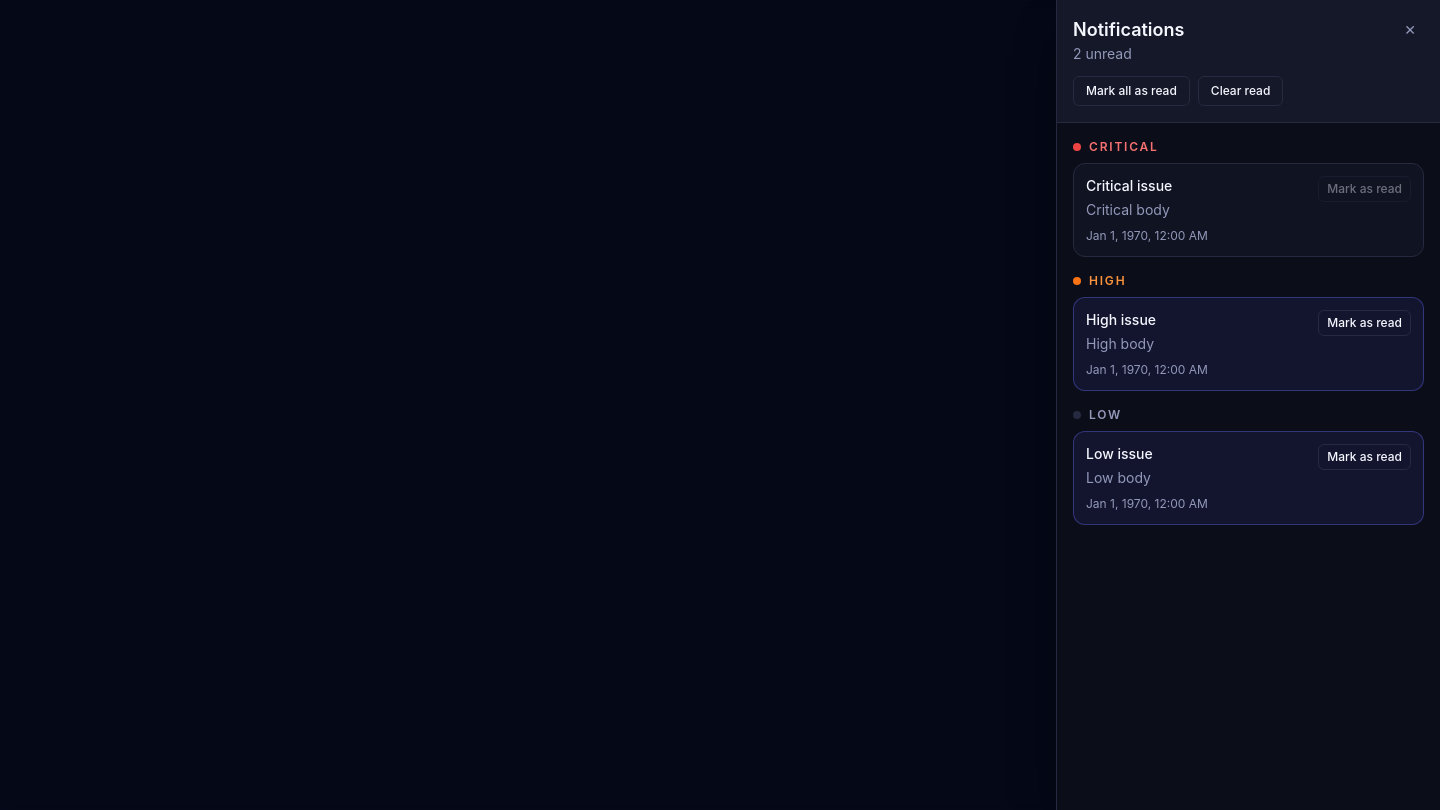
Test: NotificationsDrawer › clears read notifications and disables clear button when none exist
Click the button "Clear read" at (1241, 91), box left=1198, top=76, right=1283, bottom=106
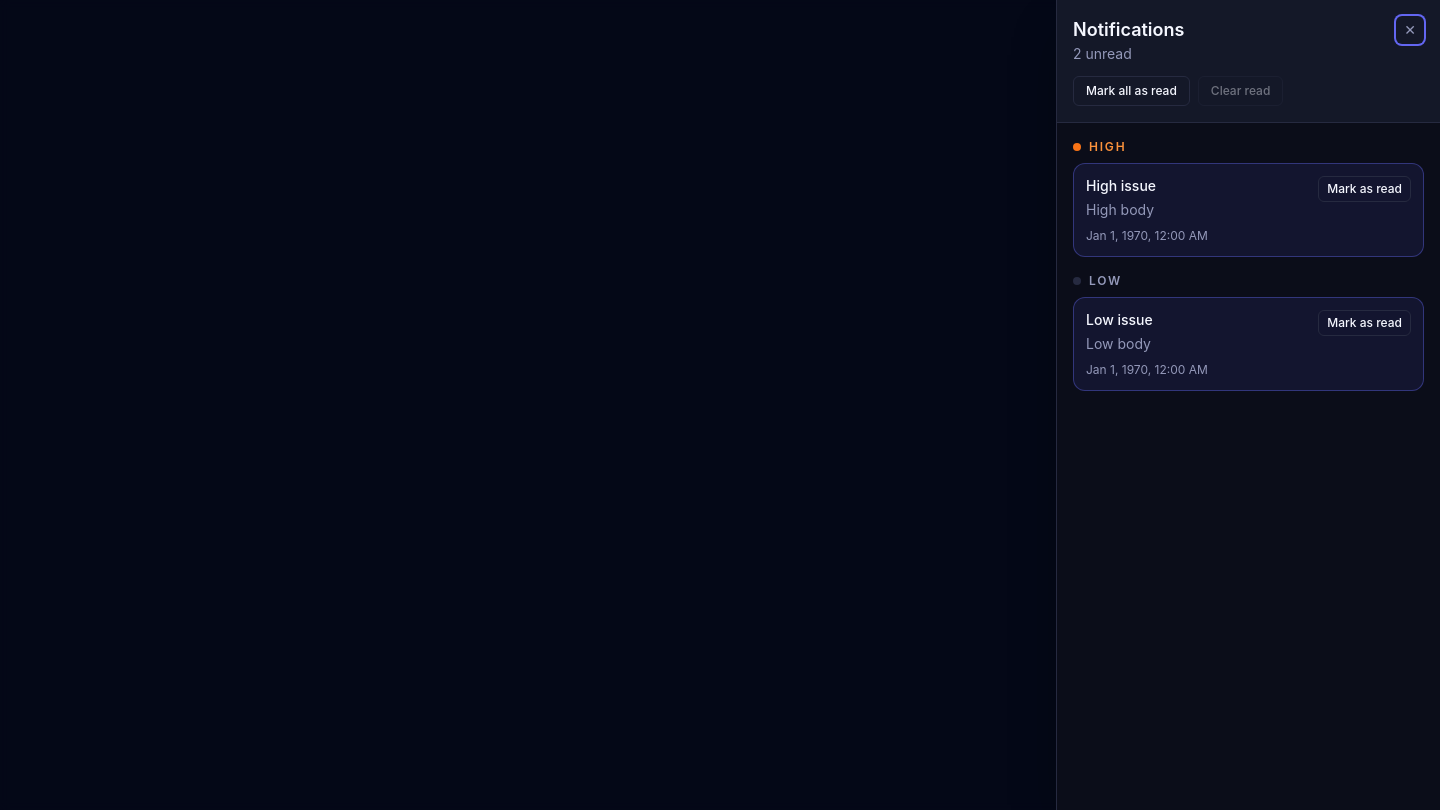
Expected: the button "Clear read" is disabled, left=1198, top=76, right=1283, bottom=106
